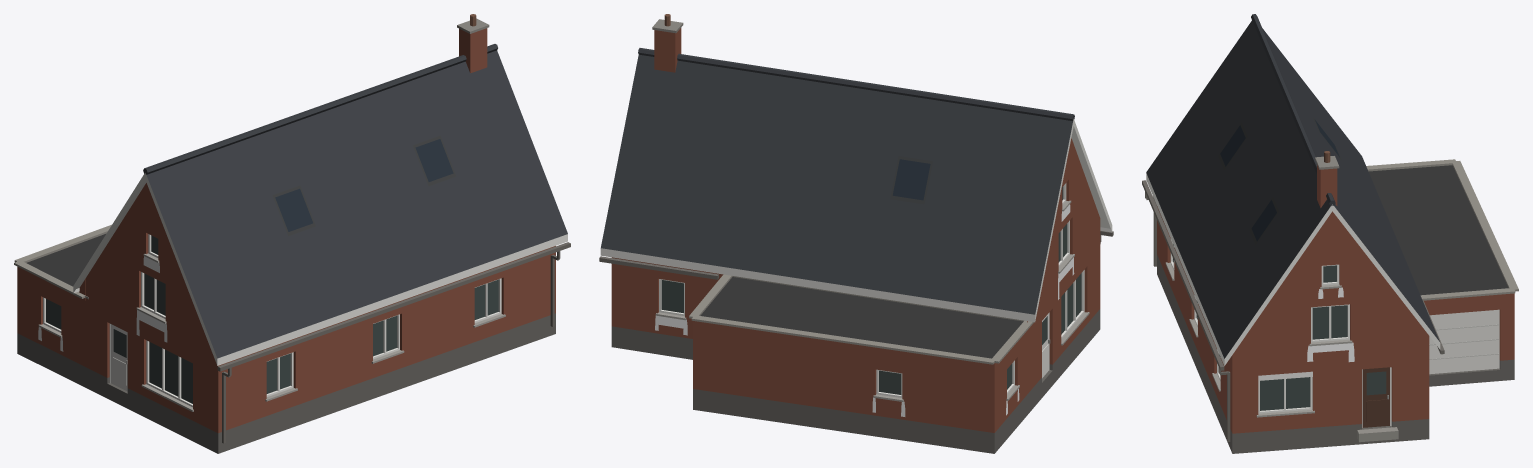
Rendered from vh_steep_gable.glb.
The picture shows the model from 3 angles, left to right: view 1: azimuth 30°, elevation 25°; view 2: azimuth 150°, elevation 25°; view 3: azimuth 270°, elevation 25°; orthographic projection. The views are drawn at different scales.
Parts seen in each view (by area): view 1: vh_roof, vh_brick, vh_trim, vh_frames_small, vh_glass, vh_stone, vh_solar, vh_streaks_small; view 2: vh_roof, vh_brick, vh_stone, vh_trim, vh_frames_small, vh_glass, vh_solar, vh_streaks_small; view 3: vh_roof, vh_brick, vh_stone, vh_trim, vh_frames_small, vh_glass, vh_solar, vh_streaks_small.
Boxes of the visible parts, bbox=[...] form: vh_roof: bbox=[143, 44, 567, 358]; vh_brick: bbox=[17, 28, 555, 433]; vh_trim: bbox=[17, 173, 567, 453]; vh_frames_small: bbox=[43, 234, 570, 443]; vh_glass: bbox=[46, 235, 498, 403]; vh_stone: bbox=[14, 14, 505, 411]; vh_solar: bbox=[272, 135, 456, 235]; vh_streaks_small: bbox=[38, 256, 167, 351]; vh_roof: bbox=[601, 48, 1074, 314]; vh_brick: bbox=[611, 28, 1100, 432]; vh_stone: bbox=[652, 14, 1089, 401]; vh_trim: bbox=[600, 119, 1112, 453]; vh_frames_small: bbox=[599, 183, 1113, 397]; vh_glass: bbox=[661, 186, 1081, 394]; vh_solar: bbox=[890, 156, 932, 204]; vh_streaks_small: bbox=[655, 204, 1074, 416]; vh_roof: bbox=[1146, 14, 1439, 358]; vh_brick: bbox=[1157, 164, 1514, 433]; vh_stone: bbox=[1165, 151, 1518, 442]; vh_trim: bbox=[1146, 173, 1514, 453]; vh_frames_small: bbox=[1142, 180, 1498, 441]; vh_glass: bbox=[1173, 244, 1386, 410]; vh_solar: bbox=[1218, 117, 1341, 244]; vh_streaks_small: bbox=[1307, 287, 1354, 362].
Size of the model in its own units: 15.96 by 10.18 by 12.18.
